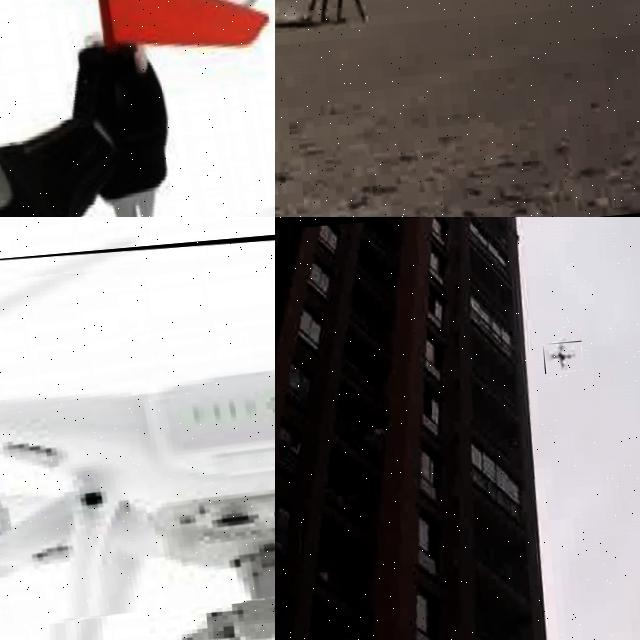0: (542, 340, 584, 374)
drone: (0, 217, 275, 628), (0, 0, 275, 217)
